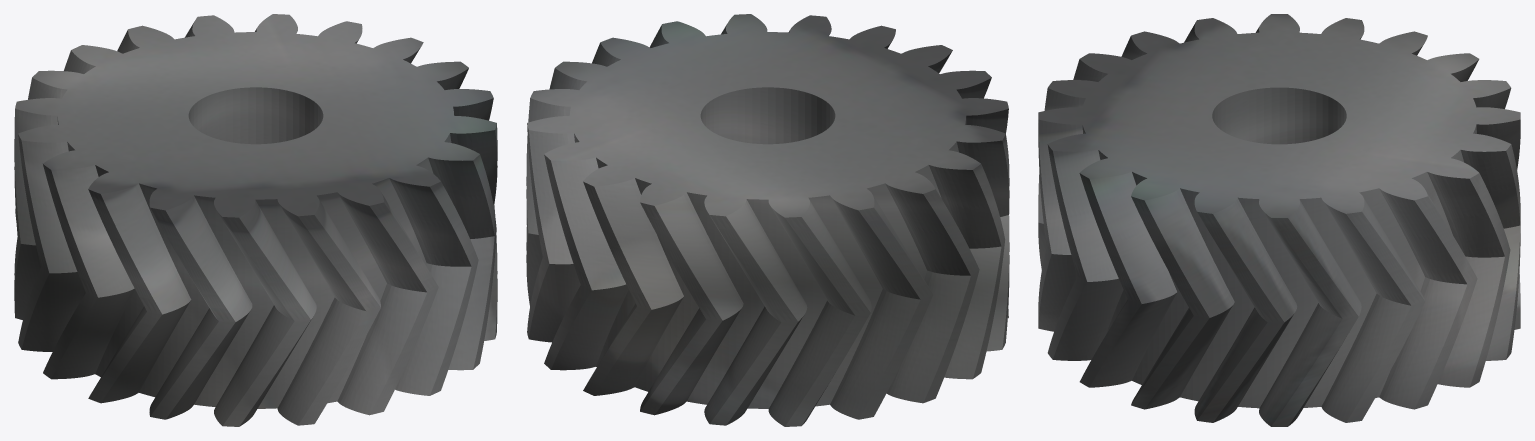
The picture shows the model from 3 angles, left to right: view 1: azimuth 30°, elevation 25°; view 2: azimuth 150°, elevation 25°; view 3: azimuth 270°, elevation 25°; orthographic projection.
Visible parts, largest first — view 1: right_gear; view 2: right_gear; view 3: right_gear.
Part boxes in pixels (x1,y1,x2,y2): right_gear: [14, 14, 497, 426]; right_gear: [526, 14, 1009, 426]; right_gear: [1038, 14, 1520, 426].
Size of the model in its own units: 0.0251 by 0.0251 by 0.012.
Materials: 1 (1 with a texture image).
